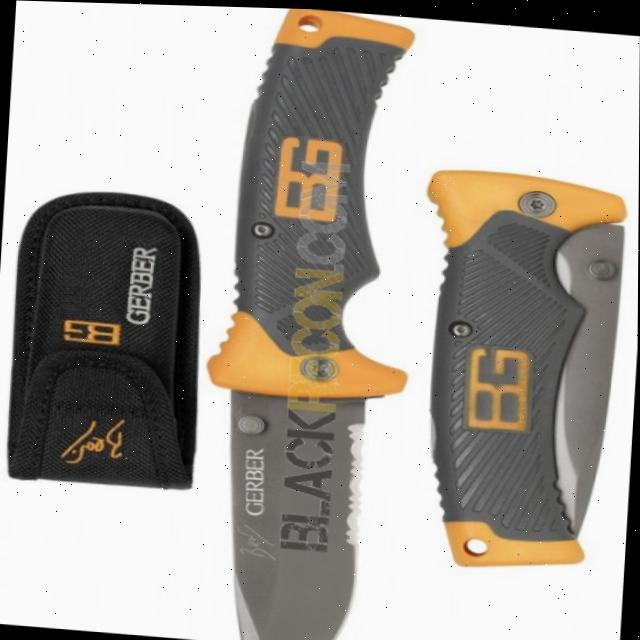knife: (190, 5, 431, 640), (406, 113, 634, 589)
